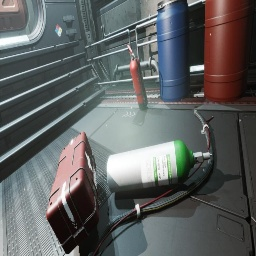0: (107, 140, 212, 193), (190, 64, 204, 83)
FireExtinguisher ]: (127, 44, 148, 110)
FirstAidBox ,: (46, 132, 99, 254)
